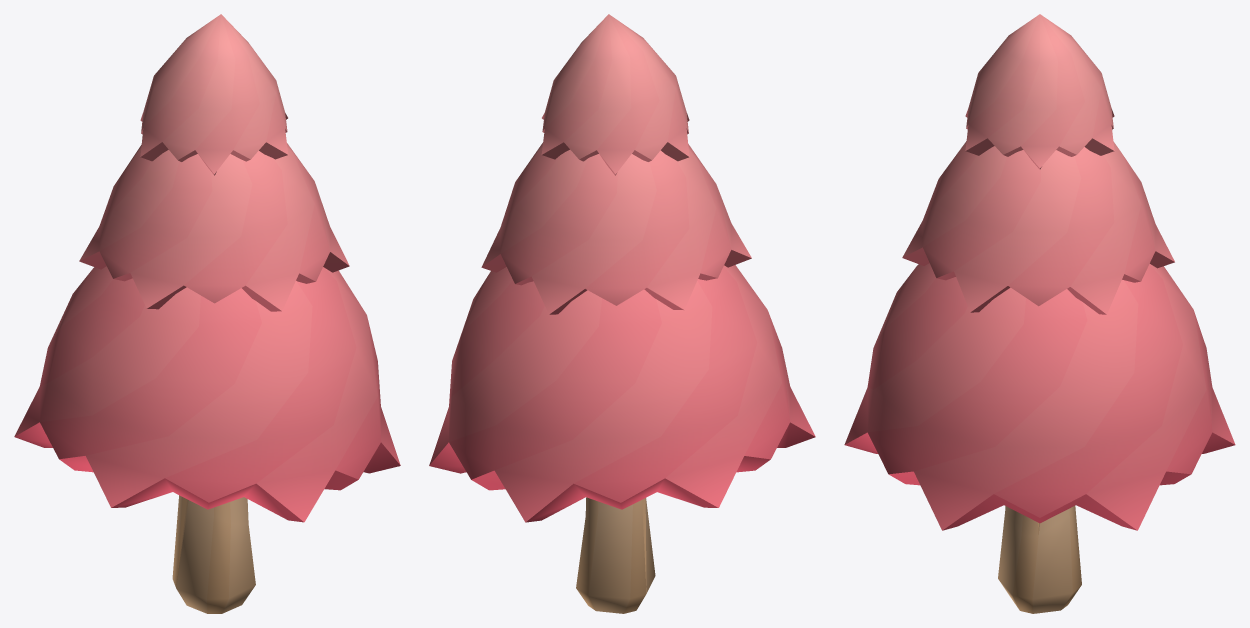
The model's file is Tree_5_B_Color8.fbx.
3 views of the same model, side by side, from view 1: azimuth 30°, elevation 25°; view 2: azimuth 150°, elevation 25°; view 3: azimuth 270°, elevation 25° (orthographic).
Parts seen in each view (by area): view 1: Tree_5_B_Color8; view 2: Tree_5_B_Color8; view 3: Tree_5_B_Color8.
Boxes of the visible parts, x1,y1,x2,y2 form: Tree_5_B_Color8: [14, 14, 400, 613]; Tree_5_B_Color8: [429, 14, 815, 613]; Tree_5_B_Color8: [844, 14, 1235, 613].
Bounding box in the file's own units: 3.08 × 5.87 × 3.46.
